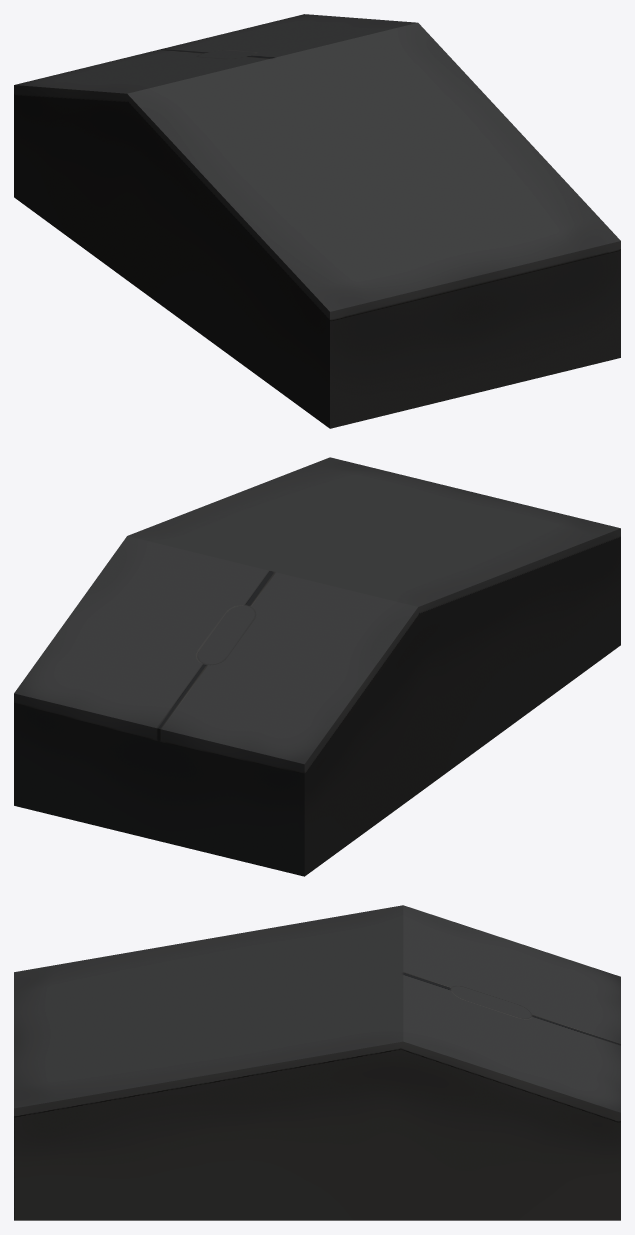
Rendered from Mouse_001.fbx.
The picture shows the model from 3 angles, top to bottom: view 1: azimuth 30°, elevation 25°; view 2: azimuth 150°, elevation 25°; view 3: azimuth 270°, elevation 25°; orthographic projection. The views are drawn at different scales.
Visible parts, largest first — view 1: Mouse_001; view 2: Mouse_001; view 3: Mouse_001.
Boxes of the visible parts, x1=… form: Mouse_001: x1=14, y1=14, x2=620, y2=428; Mouse_001: x1=14, y1=457, x2=620, y2=876; Mouse_001: x1=14, y1=905, x2=620, y2=1220.
Bounding box in the file's own units: 7.08 × 4.34 × 13.32.
1 material, 1 textured.
